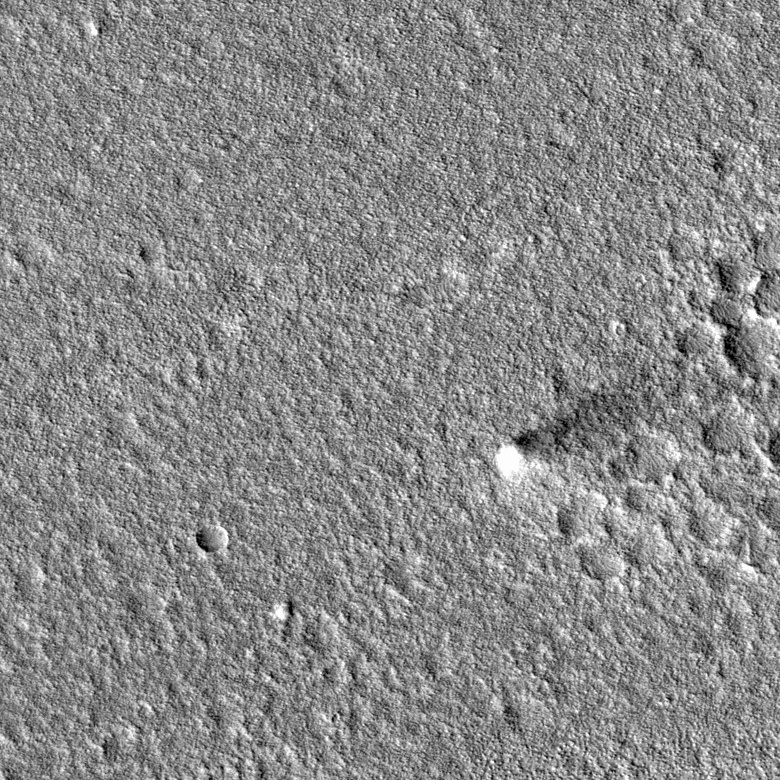dust_devil: (490, 388, 637, 483)
